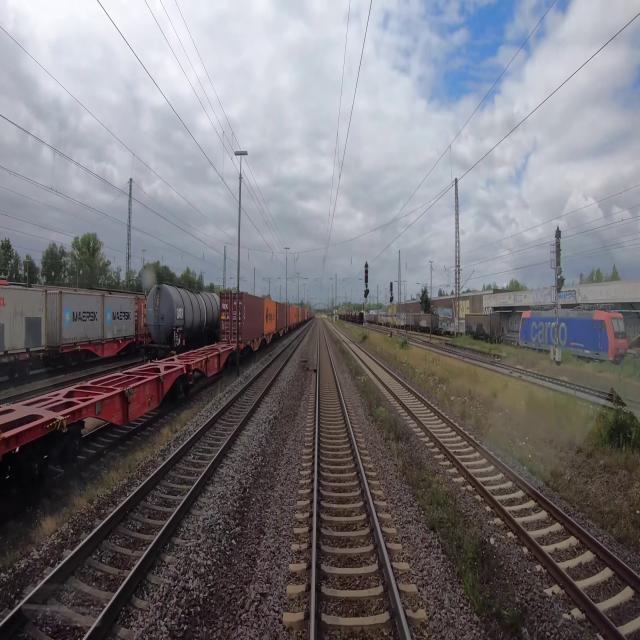Plant: (353, 371, 532, 634)
